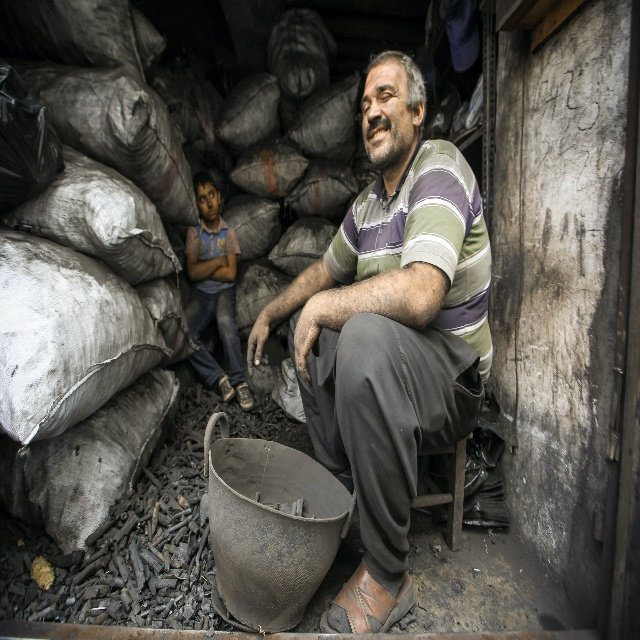Sin_guantes: (293, 303, 323, 386), (246, 314, 270, 377)
